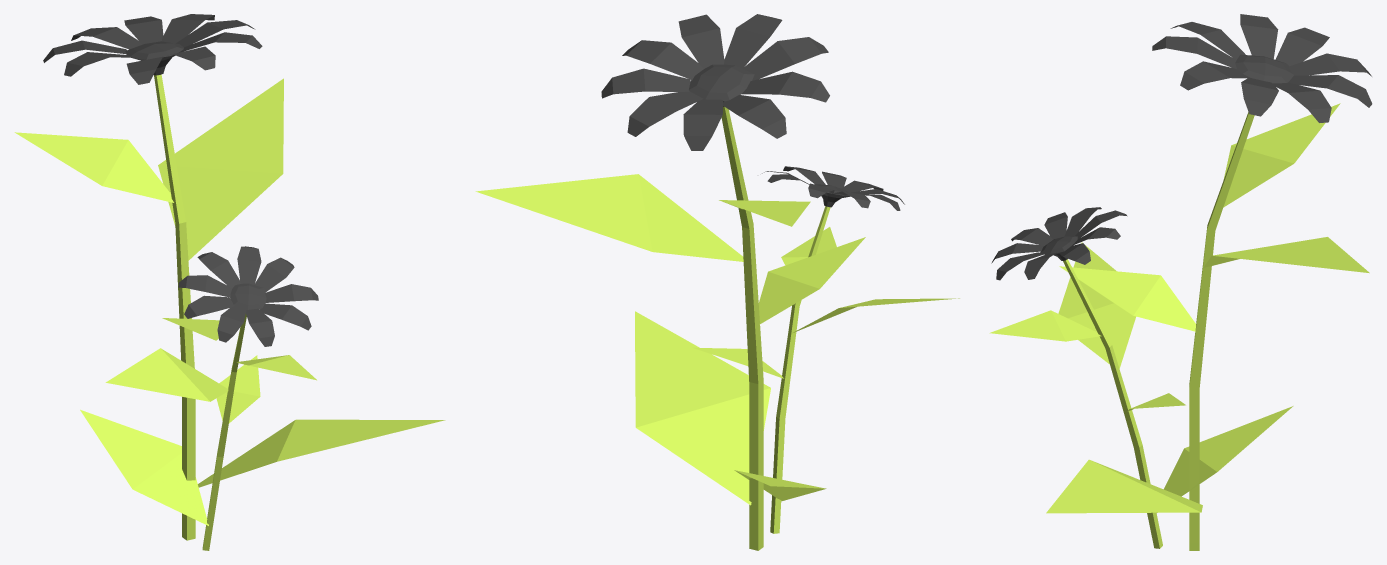
Rendered from flower_black.fbx.
3 views of the same model, side by side, from view 1: azimuth 30°, elevation 25°; view 2: azimuth 150°, elevation 25°; view 3: azimuth 270°, elevation 25° (orthographic). The views are drawn at different scales.
Parts seen in each view (by area): view 1: flower_black; view 2: flower_black; view 3: flower_black.
Part boxes in pixels (x1,y1,x2,y2): flower_black: (14,14,445,550); flower_black: (475,14,959,550); flower_black: (989,14,1372,550).
Size of the model in its own units: 0.1511 by 0.2179 by 0.1494.
